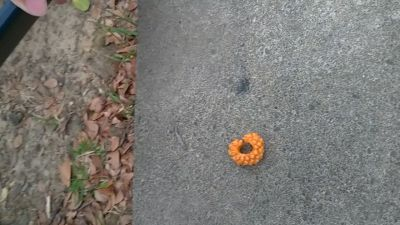eggs: (228, 133, 267, 168)
